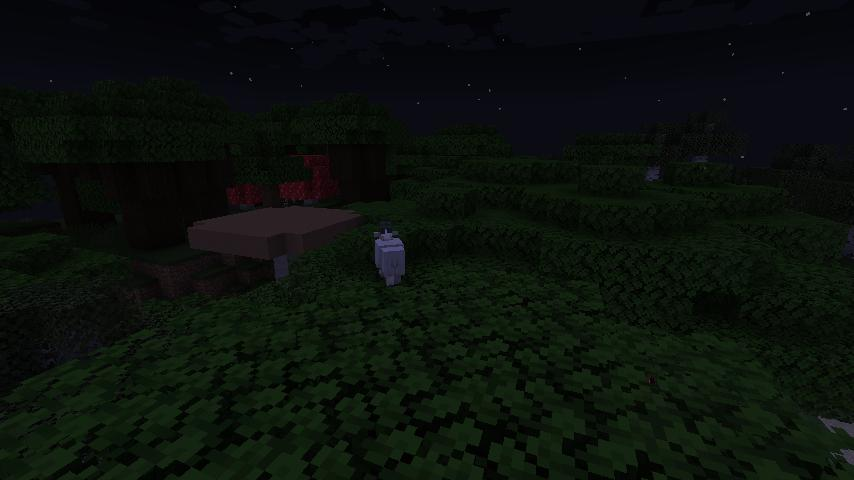goat: (373, 219, 409, 286)
